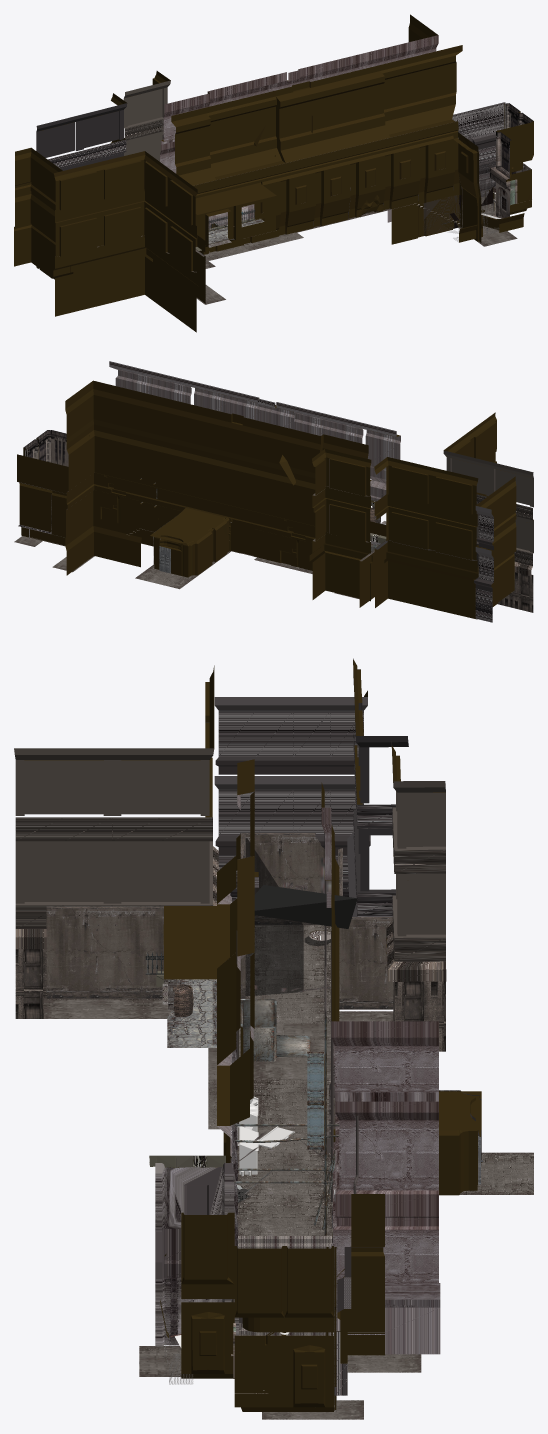
File: stret.glb
The picture shows the model from 3 angles, top to bottom: view 1: azimuth 30°, elevation 25°; view 2: azimuth 150°, elevation 25°; view 3: azimuth 270°, elevation 25°; orthographic projection. The views are drawn at different scales.
Visible parts, largest first — view 1: Material2, Material3 (×8); view 2: Material2, Material3 (×5); view 3: Material3 (×14), Material2 (×2).
Boxes of the visible parts, x1,y1,x2,y2 form: Material2: (14,14,533,332); Material3 (×8): (14,35,533,304); Material2: (17,380,533,619); Material3 (×5): (14,361,533,622); Material3 (×14): (14,658,533,1419); Material2 (×2): (24,659,482,1411).
Bounding box in the file's own units: 8.51 × 3 × 4.13.
Materials: 32 (31 with a texture image).
